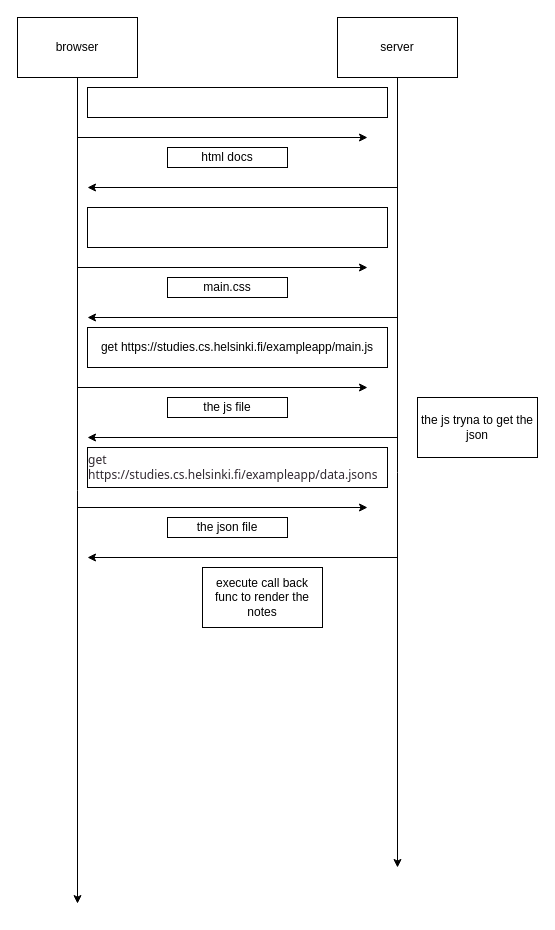
This 555x930 diagram has some shape labels left out. The centre of each missing label's shape, as x and y in pixels:
"get https://studies.cs.helsinki.fi/exampleapp/main.css" goes at point 237,227.
"post https://studies.cs.helsinki.fi/exampleapp/new_note" goes at point 237,102.
